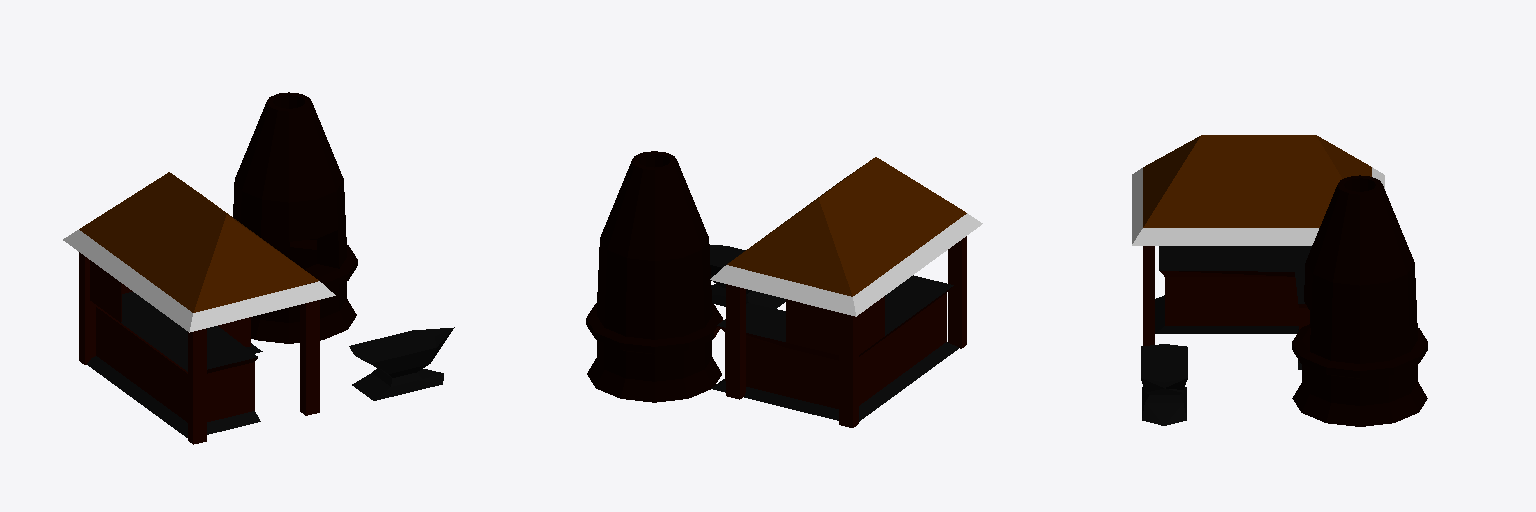
Rendered from blacksmith.obj.
The picture shows the model from 3 angles: view 1: azimuth 30°, elevation 25°; view 2: azimuth 150°, elevation 25°; view 3: azimuth 270°, elevation 25°; orthographic projection.
Visible parts, largest first — view 1: Cube.001_Cube.002; view 2: Cube.001_Cube.002; view 3: Cube.001_Cube.002.
Boxes of the visible parts, <box> form: Cube.001_Cube.002: <box>63,92,454,444</box>; Cube.001_Cube.002: <box>586,151,982,427</box>; Cube.001_Cube.002: <box>1132,135,1427,426</box>.
Size of the model in its own units: 5.62 by 4.07 by 5.13.